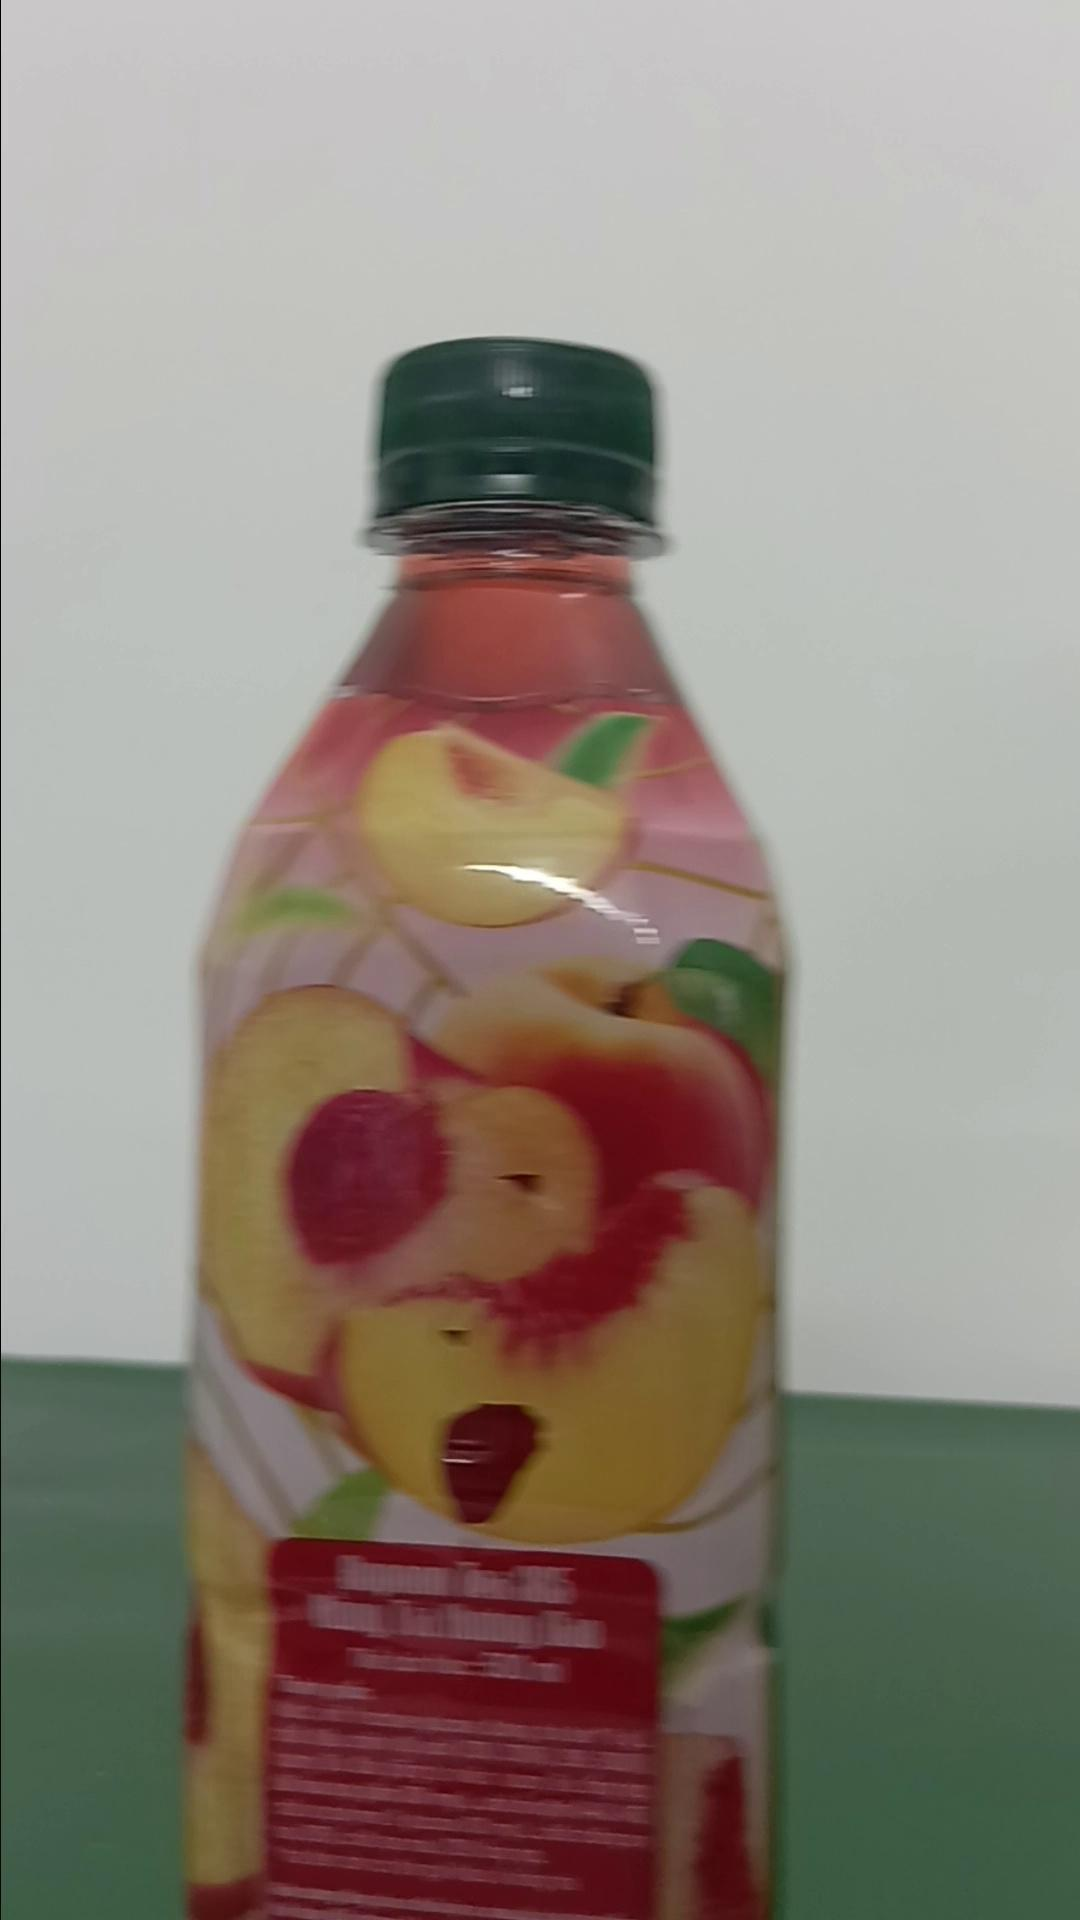loi rach va lap chai: (174, 335, 793, 1920)
